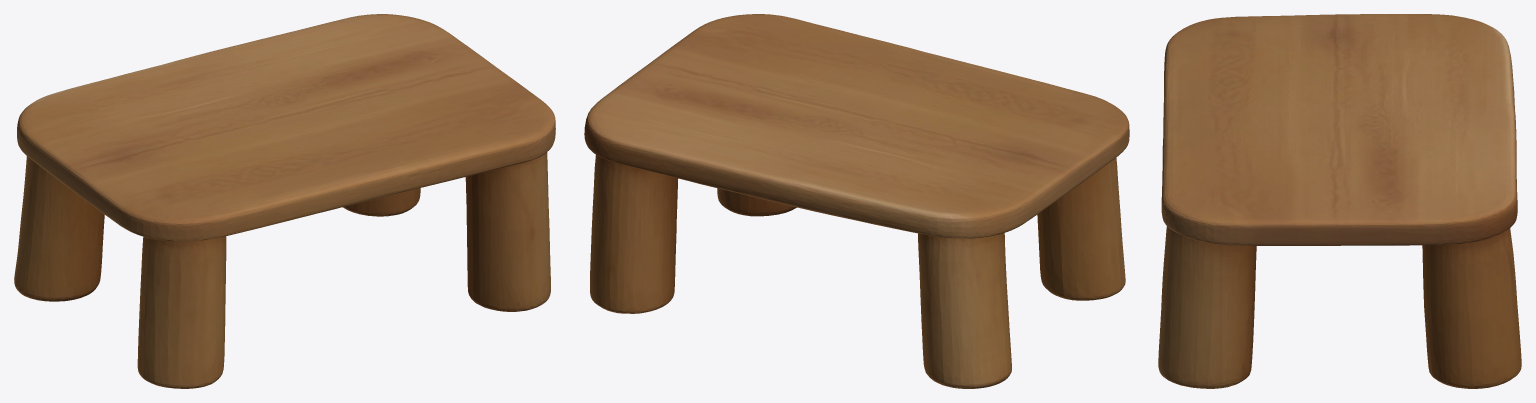
Rendered from coffee-table.glb.
The picture shows the model from 3 angles, left to right: view 1: azimuth 30°, elevation 25°; view 2: azimuth 150°, elevation 25°; view 3: azimuth 270°, elevation 25°; orthographic projection. The views are drawn at different scales.
Visible parts, largest first — view 1: geometry_0; view 2: geometry_0; view 3: geometry_0.
Boxes of the visible parts, x1=… form: geometry_0: x1=14, y1=14, x2=555, y2=388; geometry_0: x1=584, y1=14, x2=1129, y2=388; geometry_0: x1=1158, y1=14, x2=1521, y2=388.
Size of the model in its own units: 0.9998 by 0.3904 by 0.7193.
Materials: 1 (1 with a texture image).
